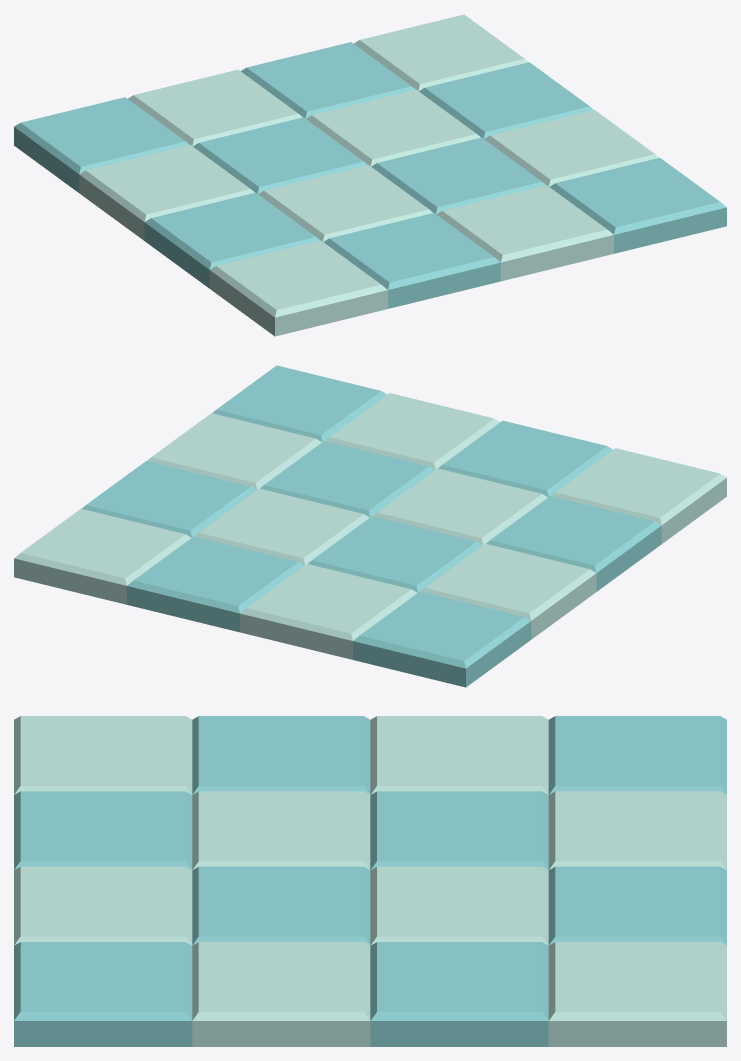
Rendered from Flat Floor 5x5.fbx.
3 views of the same model, one above another, from view 1: azimuth 30°, elevation 25°; view 2: azimuth 150°, elevation 25°; view 3: azimuth 270°, elevation 25° (orthographic). The views are drawn at different scales.
Visible parts, largest first — view 1: Cube; view 2: Cube; view 3: Cube.
Part boxes in pixels (left/top/right/bottom): Cube: left=14, top=14, right=726, bottom=336; Cube: left=14, top=365, right=726, bottom=687; Cube: left=14, top=716, right=726, bottom=1046.
Size of the model in its own units: 500 by 25 by 500.
